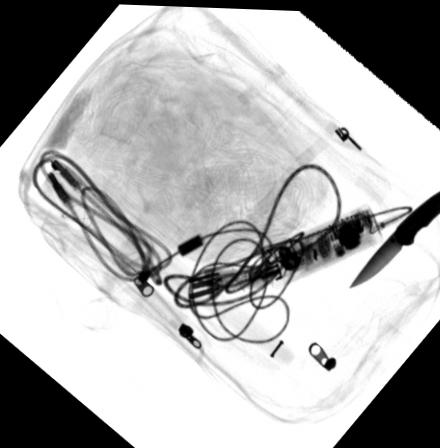Knife: (345, 187, 440, 287)
